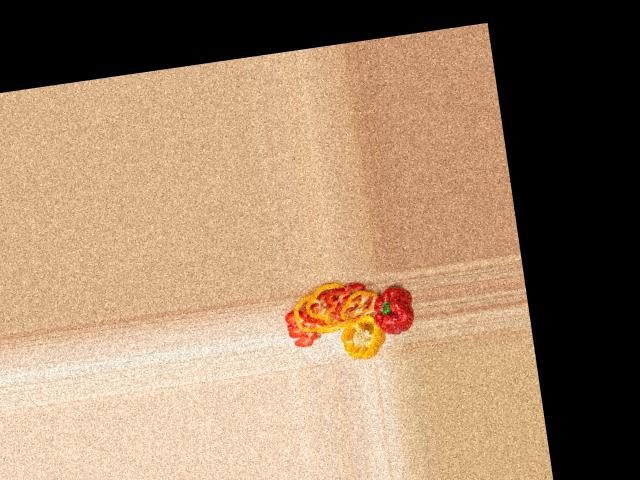bell_pepper: (336, 313, 386, 364)
